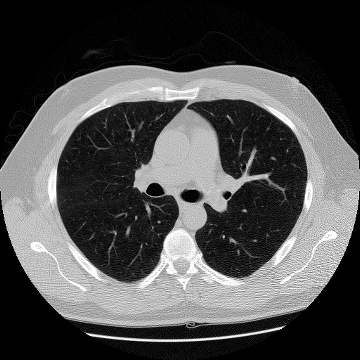nodule: (242, 208, 246, 212)
